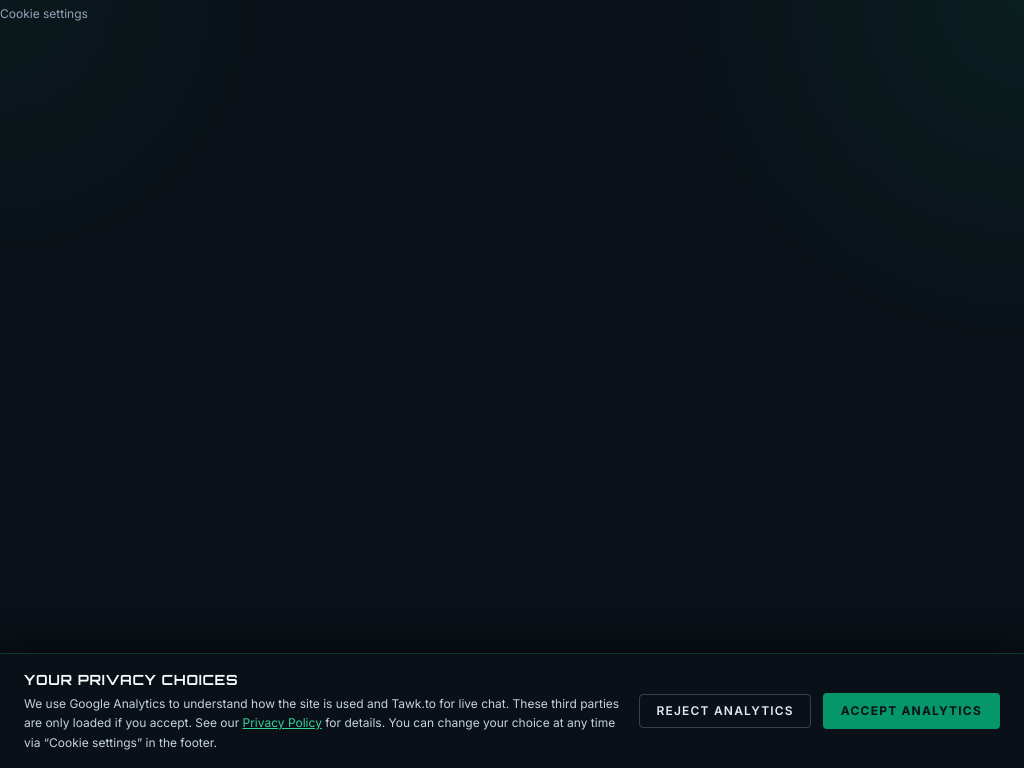
Scenario: consent-gated third-party scripts [PRIV-P2-001] › never loads scripts when analytics are rejected
This screenshot has width=1024, height=768.
Click the button "Reject analytics" at x=725, y=711, box [639, 694, 811, 728]
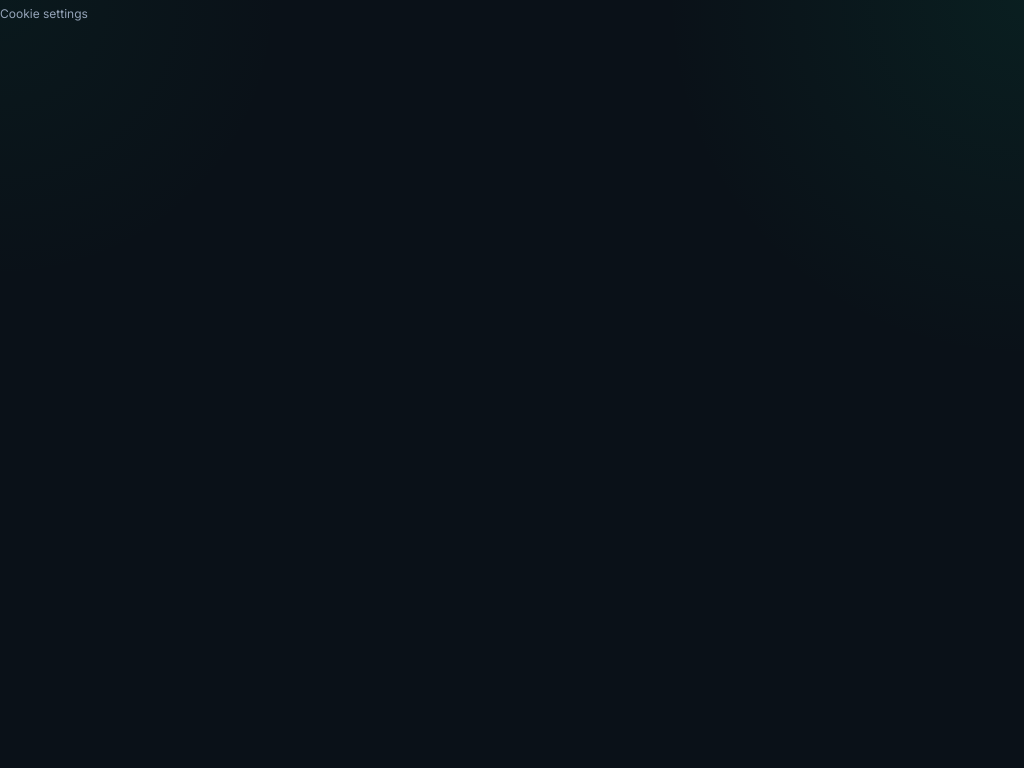
Expected: the dialog is gone
